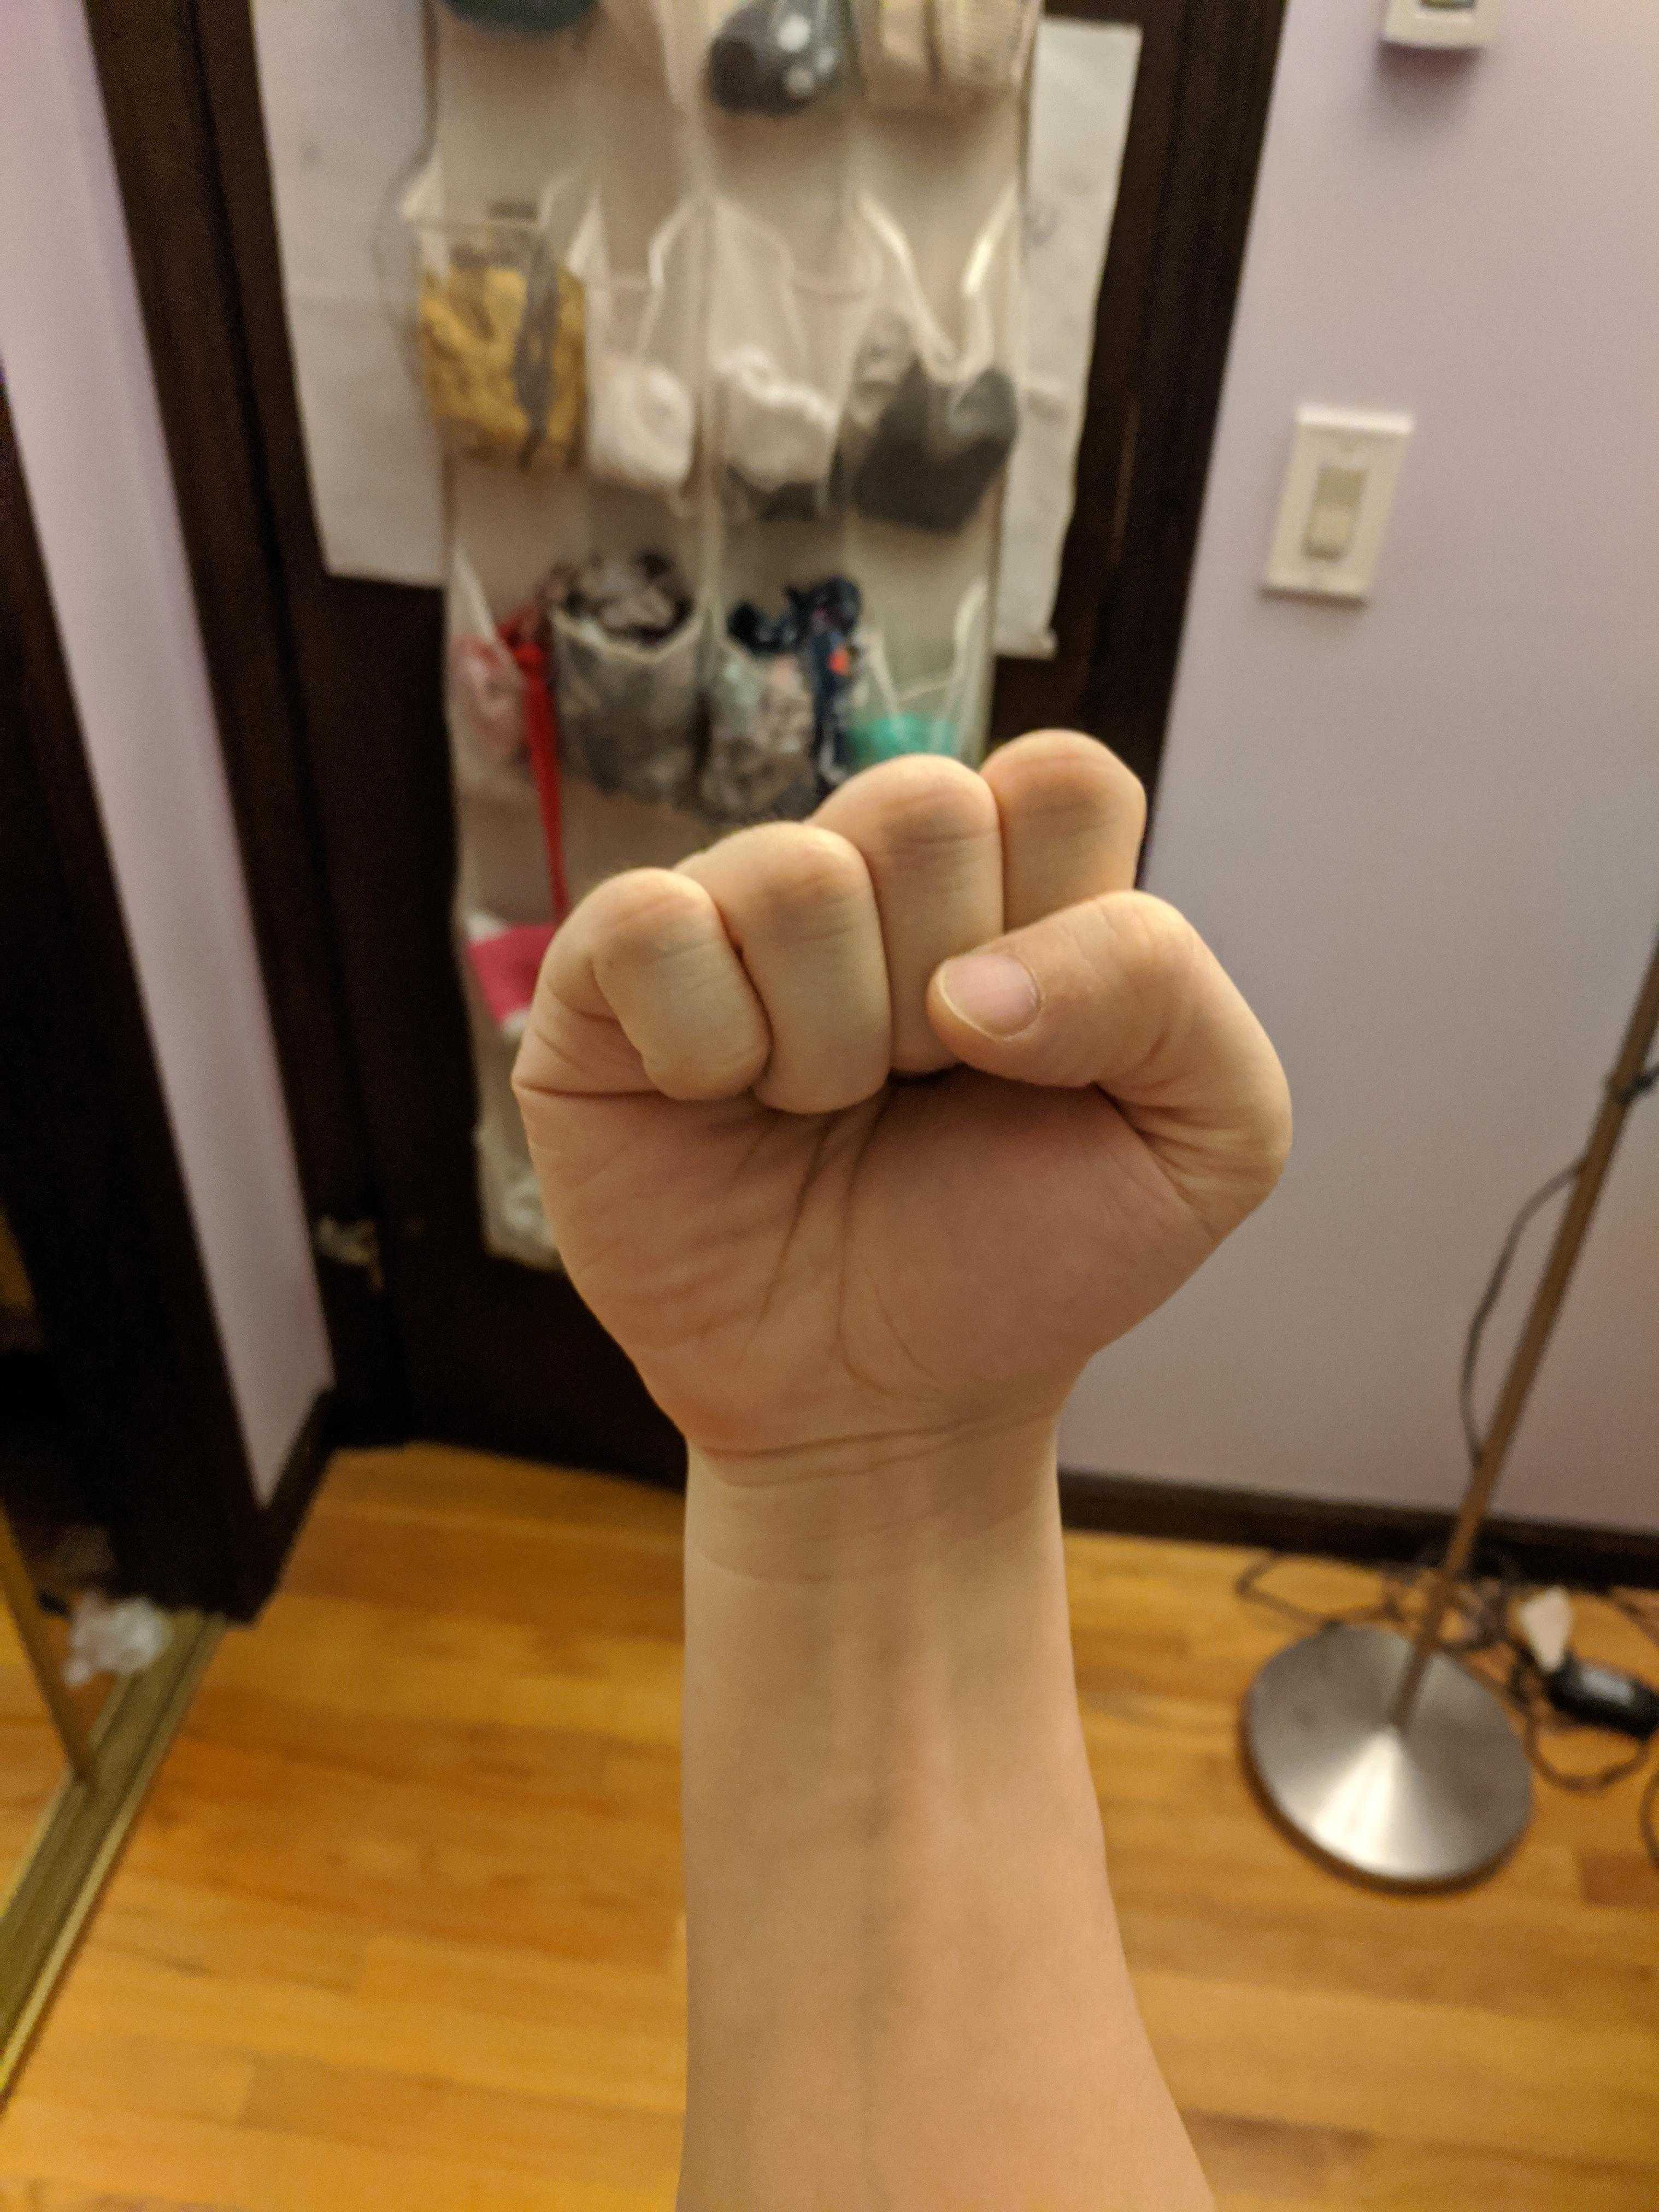S: (497, 709, 1313, 1490)
